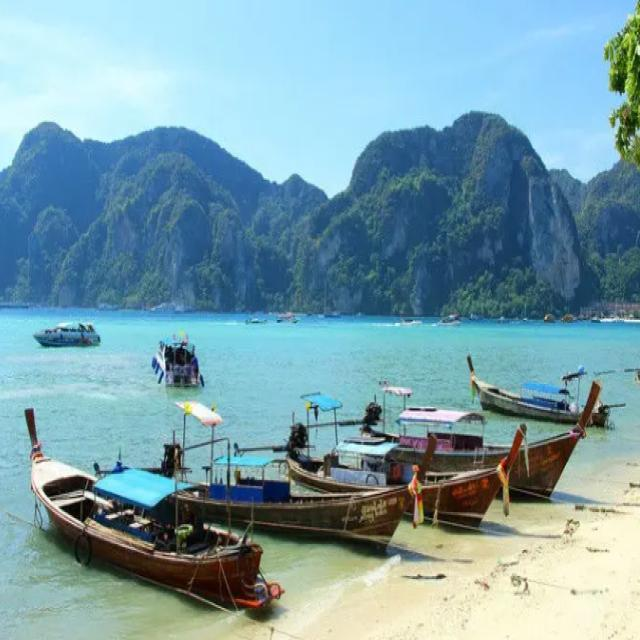fishing boat: (18, 404, 270, 617), (149, 381, 426, 548), (288, 382, 524, 540), (375, 378, 606, 503), (461, 358, 619, 433)
houseboat: (150, 334, 204, 388), (28, 315, 100, 352)
